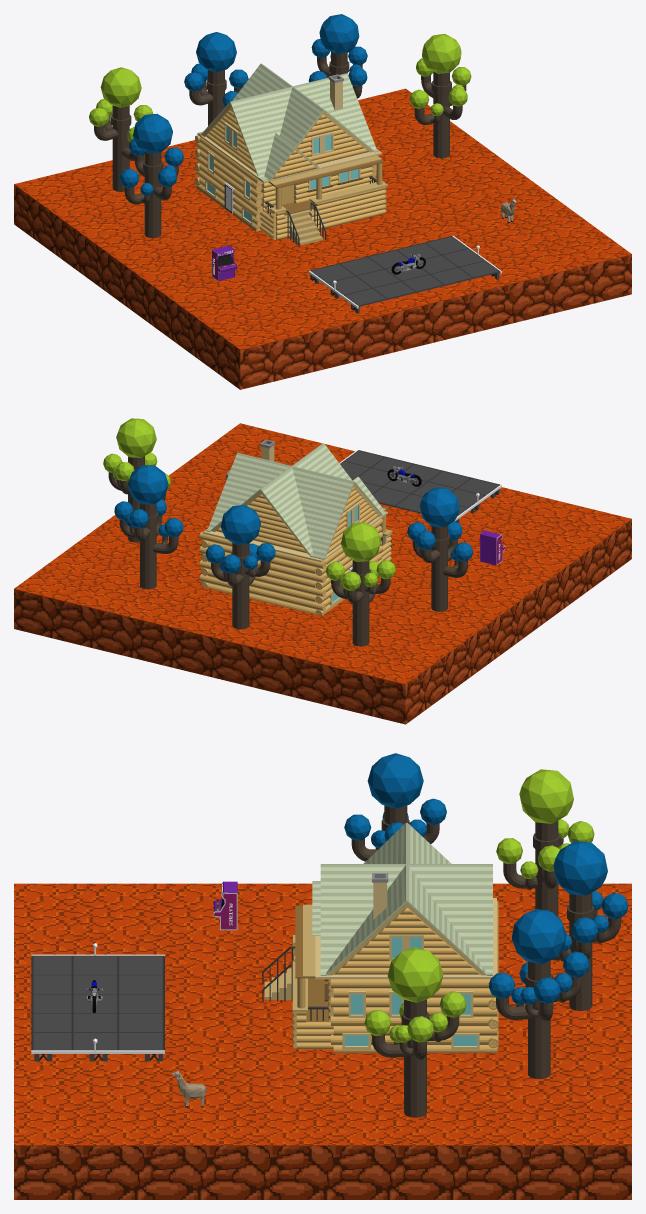
The picture shows the model from 3 angles, top to bottom: view 1: azimuth 30°, elevation 25°; view 2: azimuth 150°, elevation 25°; view 3: azimuth 270°, elevation 25°; orthographic projection. The views are drawn at different scales.
Visible parts, largest first — view 1: Cube.001, Cube.1516, OBJRANDOM_ARCADE; view 2: Cube.001, Cube.1516, OBJRANDOM_ARCADE; view 3: Cube.001, Cube.1516, OBJRANDOM_ARCADE.
Part boxes in pixels (<box>): Cube.001: <box>14,14,631,389</box>; Cube.1516: <box>195,63,387,246</box>; OBJRANDOM_ARCADE: <box>211,245,237,281</box>; Cube.001: <box>14,418,631,724</box>; Cube.1516: <box>199,439,392,615</box>; OBJRANDOM_ARCADE: <box>480,530,505,565</box>; Cube.001: <box>14,753,631,1199</box>; Cube.1516: <box>262,823,498,1052</box>; OBJRANDOM_ARCADE: <box>213,881,237,930</box>.
Bounding box in the file's own units: 4000 × 1816 × 4000.
Materials: 40 (5 with a texture image).
